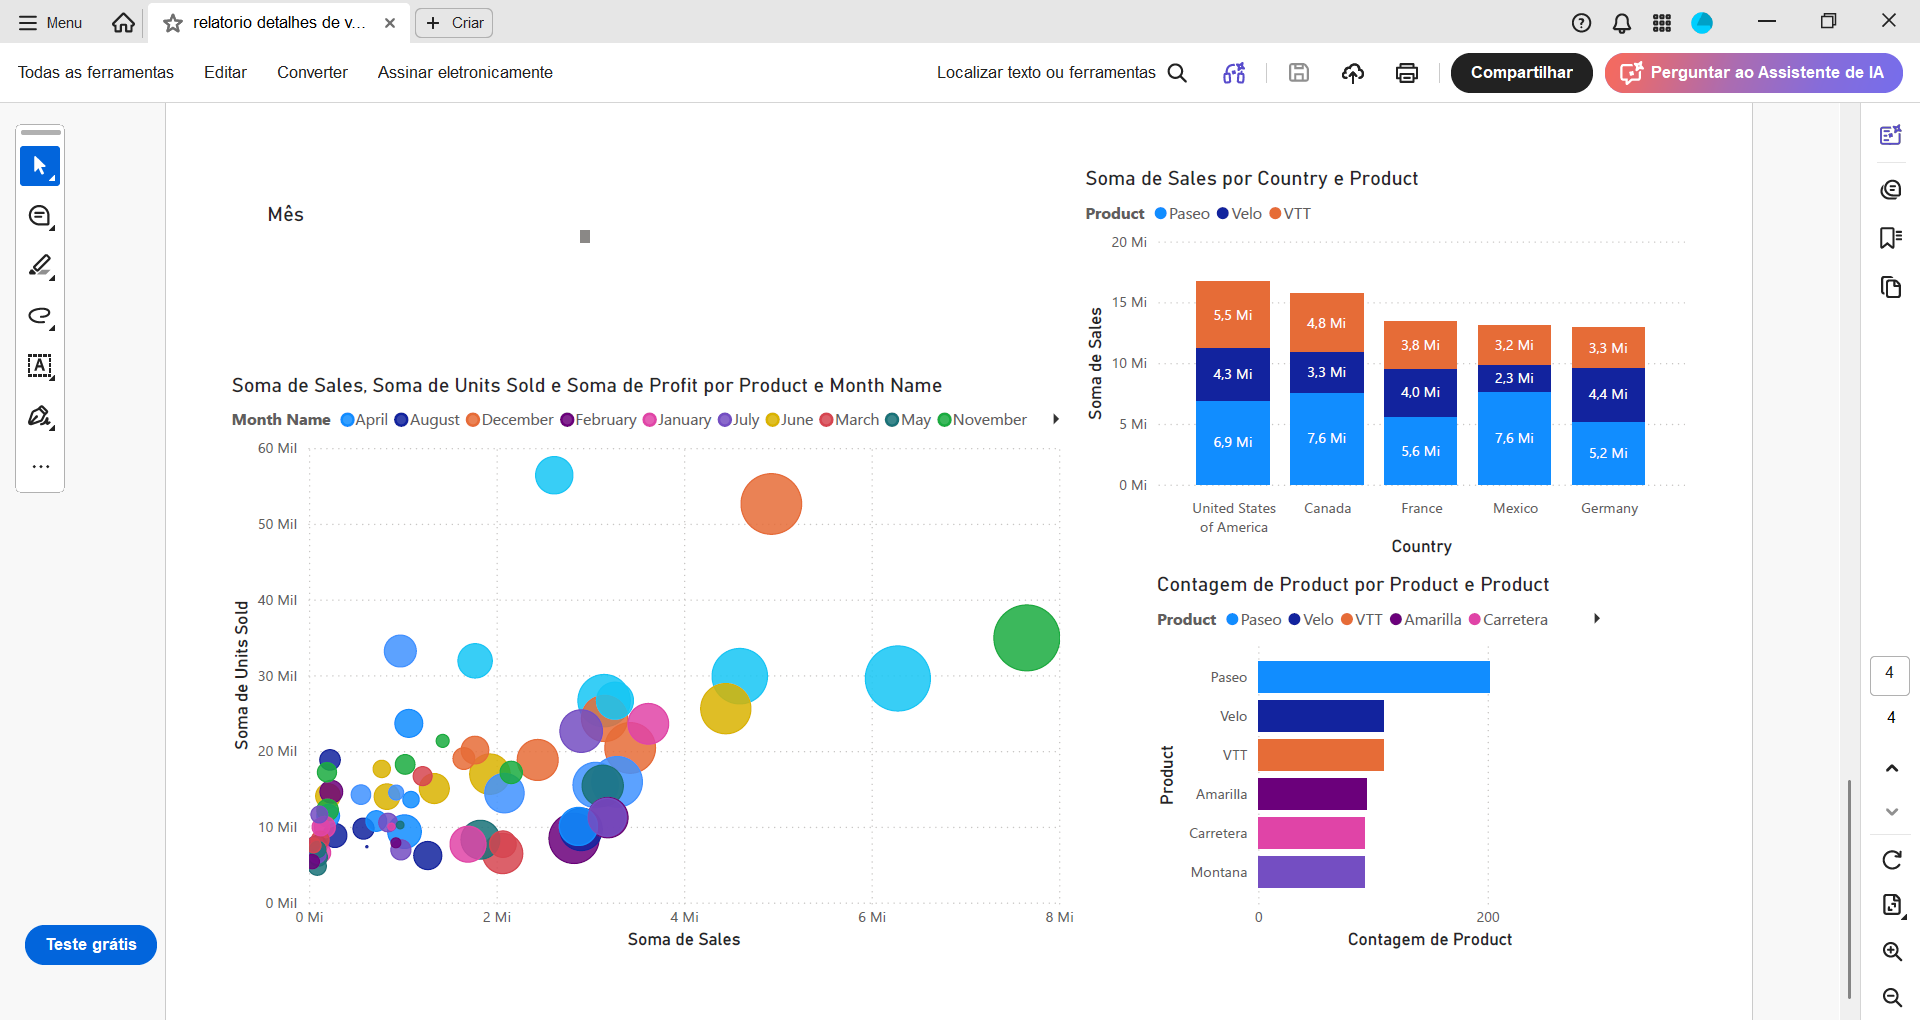

What the dashboard file says about the page in this screenshot:
{"tool":"powerbi","page":{"name":"TOPN  & OUTLIERS","canvas":[1280,720],"ordinal":3},"visuals":[{"type":"advancedSlicerVisual","fields":{"Values":["financials.Date.Variation.Hierarquia de datas.Mês"]},"box":[56.3,58.7,280,34.2],"z":0},{"type":"columnChart","fields":{"Category":["financials.Country"],"Series":["financials.Product"],"Y":["Sum(financials. Sales)"]},"box":[741,29.3,512.4,330.2],"z":1000},{"type":"scatterChart","fields":{"Category":["financials.Product"],"Series":["financials.Month Name"],"Size":["Sum(financials.Profit)"],"X":["Sum(financials. Sales)"],"Y":["Sum(financials.Units Sold)"]},"box":[26.1,201.7,714.9,487.1],"z":2000},{"type":"barChart","fields":{"Category":["financials.Product"],"Series":["financials.Product"],"Y":["CountNonNull(financials.Product)"]},"box":[801,369.3,393,320],"z":2001}]}

Visuals, with their boxes on the page's 1280x720 design canvas (x1, y1, x2, y2). These are canvas units, not pixel positions in the 1920x1020 screenshot, which may show the page scaled, cropped or inside an application window:
advancedSlicerVisual - financials.Date.Variation.Hierarquia de datas.Mês: (56,59,336,93)
columnChart - financials.Country x financials.Product: (741,29,1253,360)
scatterChart - financials.Product x financials.Month Name: (26,202,741,689)
barChart - financials.Product x financials.Product: (801,369,1194,689)
